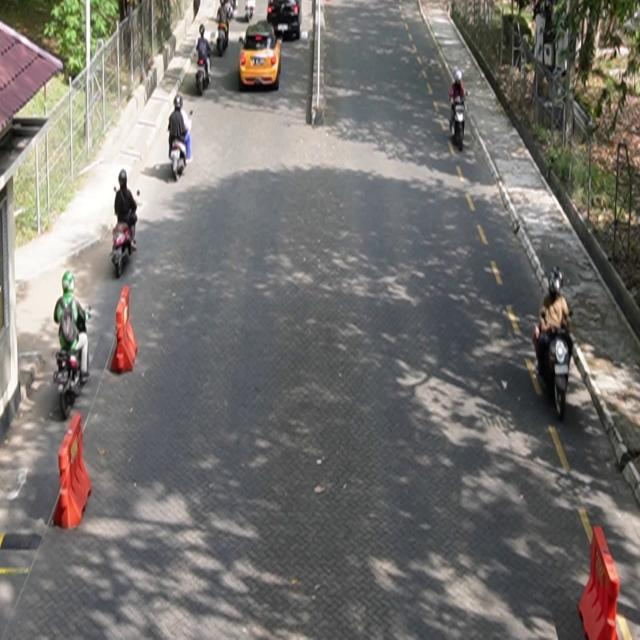car: (239, 20, 283, 91)
